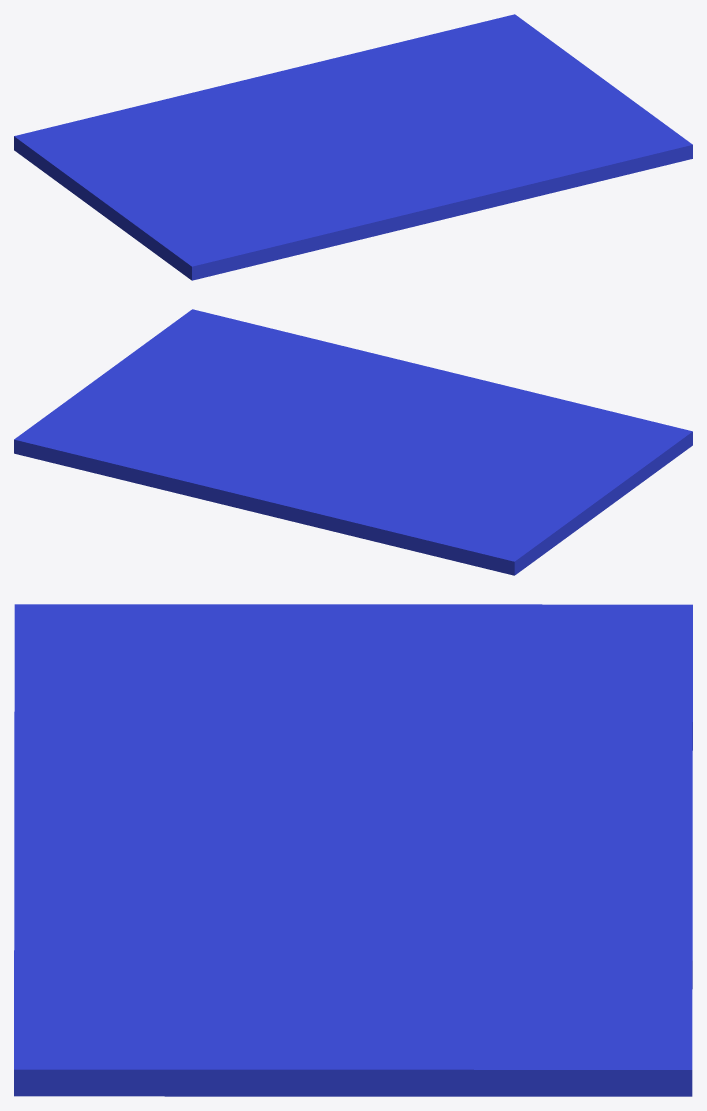
File: Sea.fbx
The picture shows the model from 3 angles, top to bottom: view 1: azimuth 30°, elevation 25°; view 2: azimuth 150°, elevation 25°; view 3: azimuth 270°, elevation 25°; orthographic projection. The views are drawn at different scales.
Visible parts, largest first — view 1: Sea; view 2: Sea; view 3: Sea.
Part boxes in pixels (bbox=[...]): Sea: bbox=[14, 14, 692, 280]; Sea: bbox=[14, 309, 692, 575]; Sea: bbox=[14, 604, 692, 1096].
Bounding box in the file's own units: 7469 × 202 × 4606.
